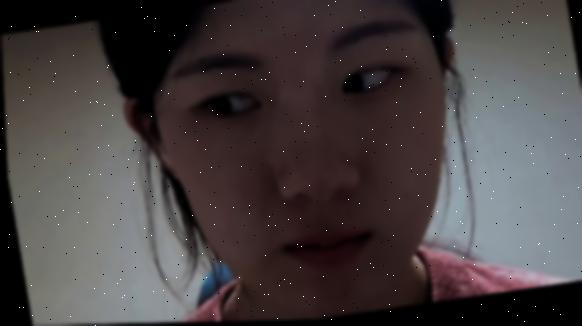eye: (197, 89, 231, 121), (332, 70, 365, 99)
iris: (198, 89, 263, 122), (339, 66, 393, 96)
